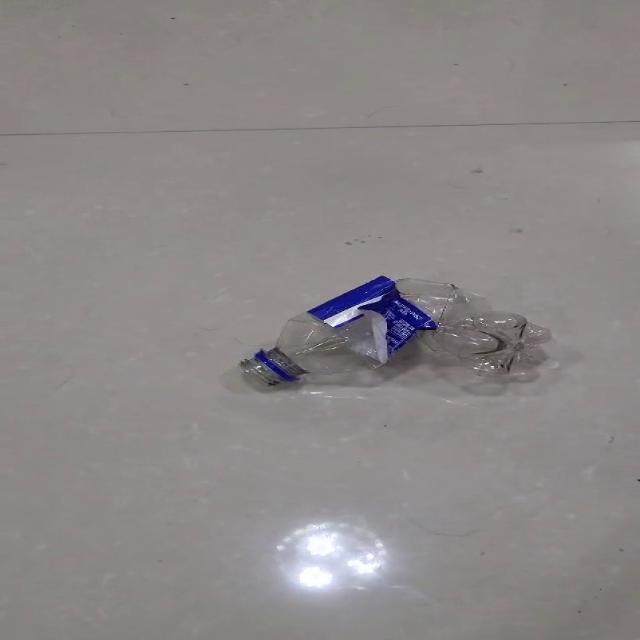plastic: (238, 274, 552, 390)
